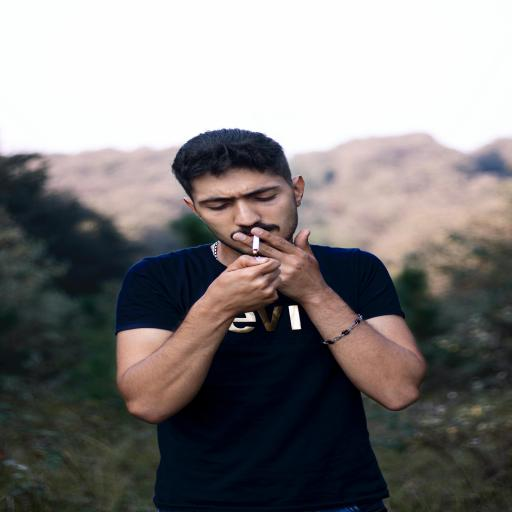terdeteksi merokok: (205, 182, 297, 270)
